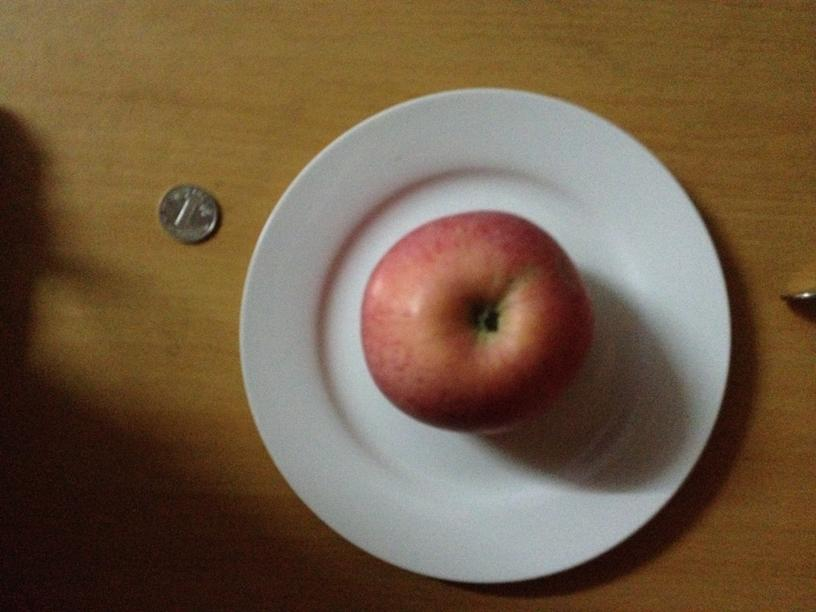apple: (365, 210, 591, 431)
coin: (158, 185, 221, 242)
